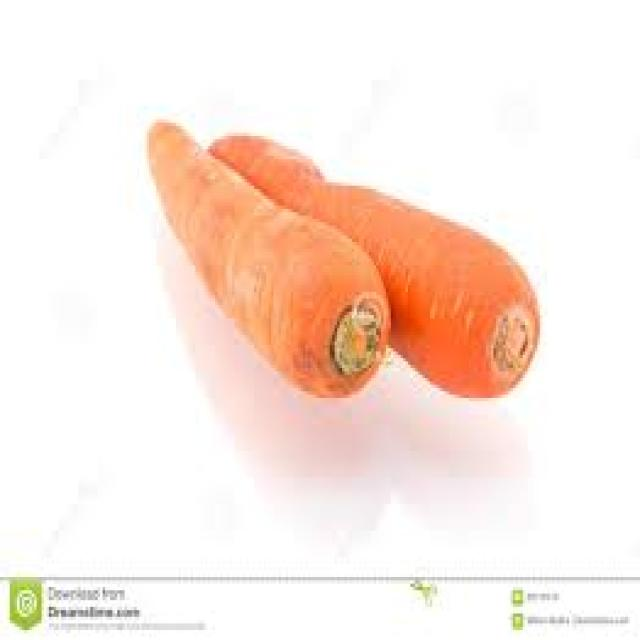Stale_Carrot: (213, 137, 545, 405)
